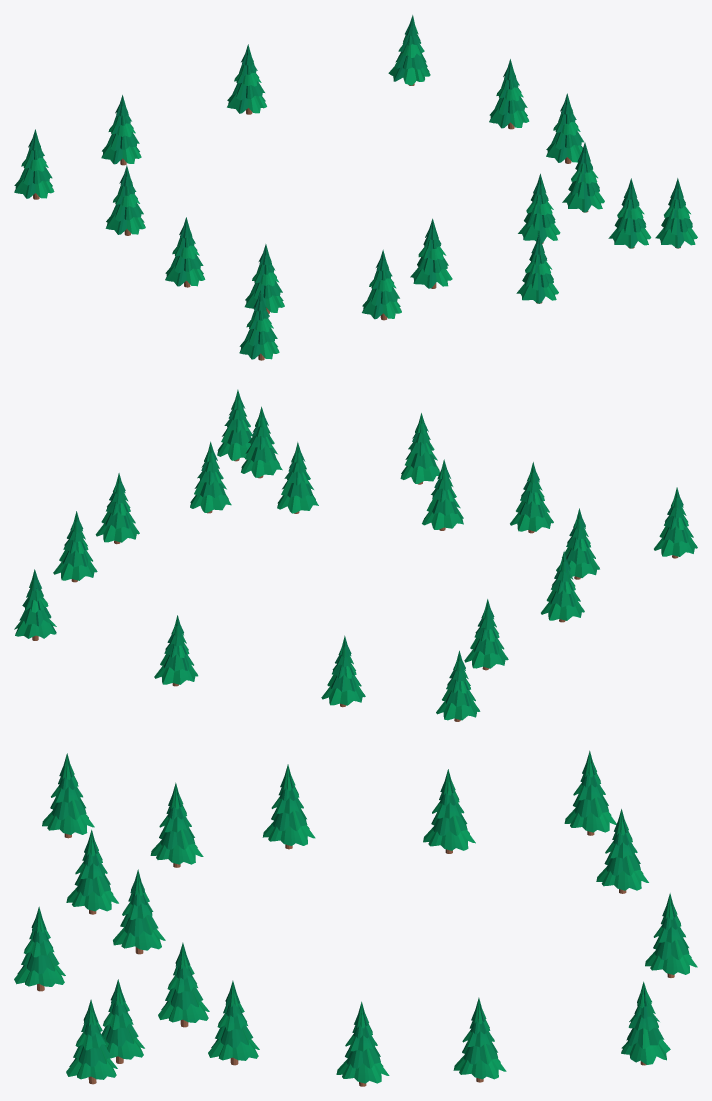
File: Pinheiro conjunto.fbx
3 renders of one model, top to bottom at view 1: azimuth 30°, elevation 25°; view 2: azimuth 150°, elevation 25°; view 3: azimuth 270°, elevation 25°, orthographic. The views are drawn at different scales.
Visible parts, largest first — view 1: Pinheiro.018; view 2: Pinheiro.018; view 3: Pinheiro.018.
Boxes of the visible parts, box(x1,y1,x2,y2) form: Pinheiro.018: box(14, 15, 697, 360); Pinheiro.018: box(14, 389, 697, 721); Pinheiro.018: box(14, 750, 697, 1086).
Bounding box in the file's own units: 7480 × 1071 × 7939.
